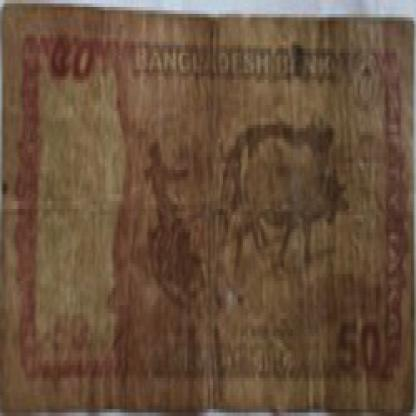Fifty taka: (330, 298, 392, 392), (45, 28, 98, 100)
